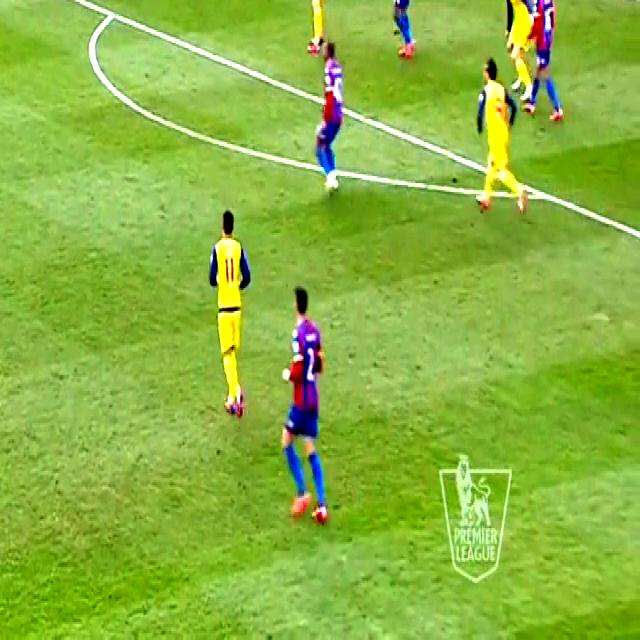soccer-player: (270, 285, 350, 526), (189, 208, 264, 428), (464, 51, 536, 219), (302, 42, 364, 196), (371, 0, 433, 62), (290, 0, 346, 62)
